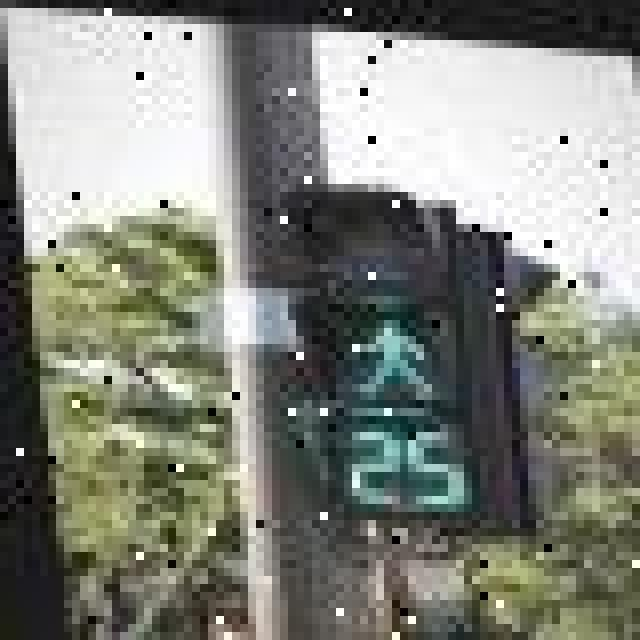greenlight: (320, 176, 472, 408)
